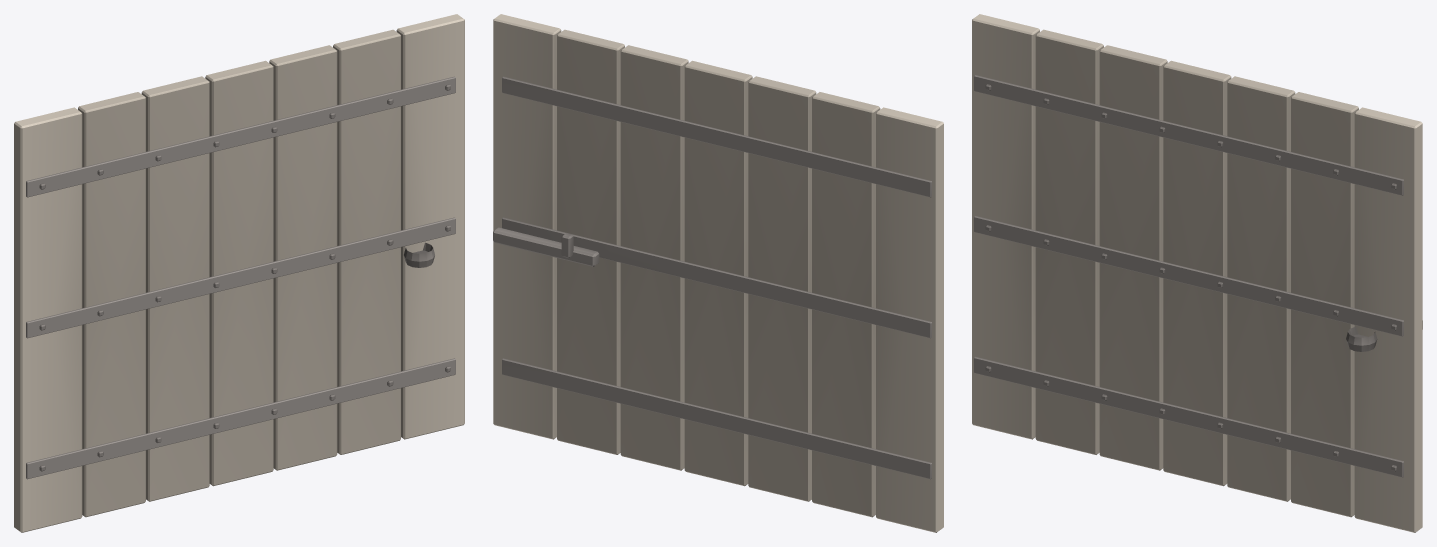
File: dng_shortcut_leaf.glb
3 renders of one model, left to right at view 1: azimuth 30°, elevation 25°; view 2: azimuth 150°, elevation 25°; view 3: azimuth 330°, elevation 25°, orthographic.
Visible parts, largest first — view 1: bolt_bar; view 2: bolt_bar; view 3: bolt_bar.
Part boxes in pixels (box(x1,y1,x2,y2)): bolt_bar: box(14, 14, 464, 532); bolt_bar: box(493, 14, 943, 532); bolt_bar: box(972, 14, 1422, 532).
Size of the model in its own units: 2.61 by 2.28 by 0.315.
